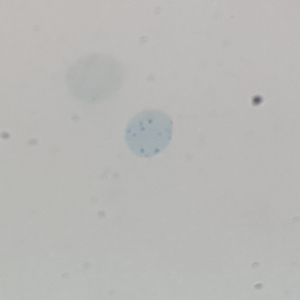erythrocyte: (63, 52, 129, 107)
punctate reticulocyte: (122, 107, 176, 158)
